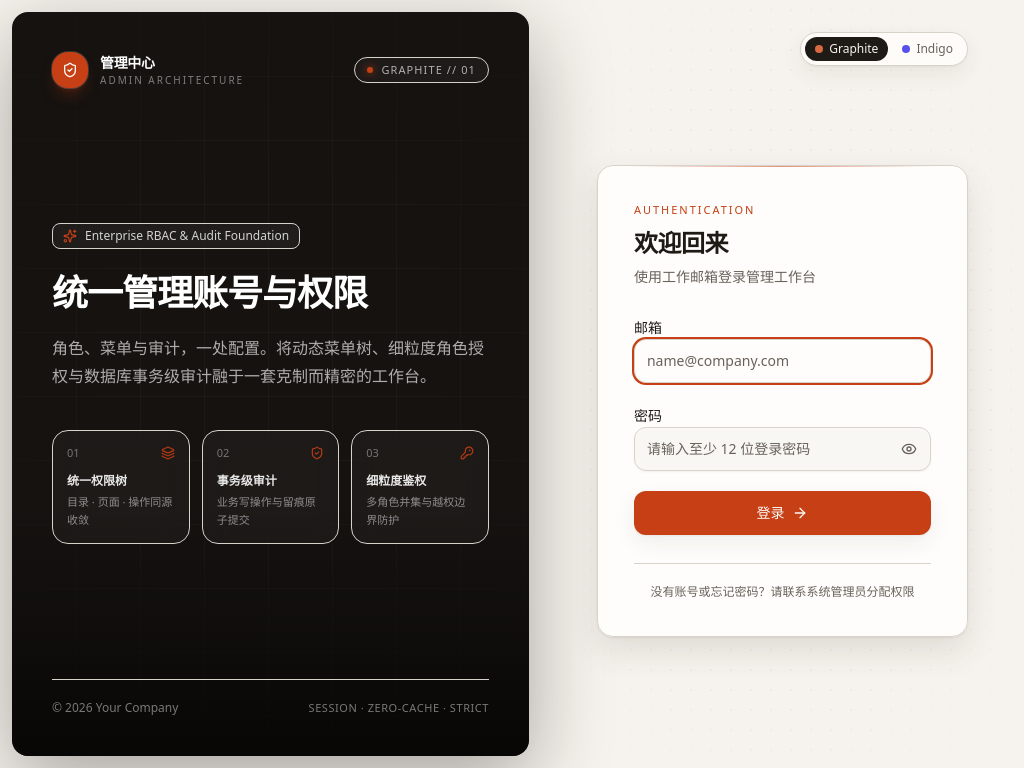
Test: login page › distinguishes rate limiting and banned accounts
Type "admin@example.com" into the field labelled "邮箱" at coordinates (782, 361), box [634, 339, 931, 383]
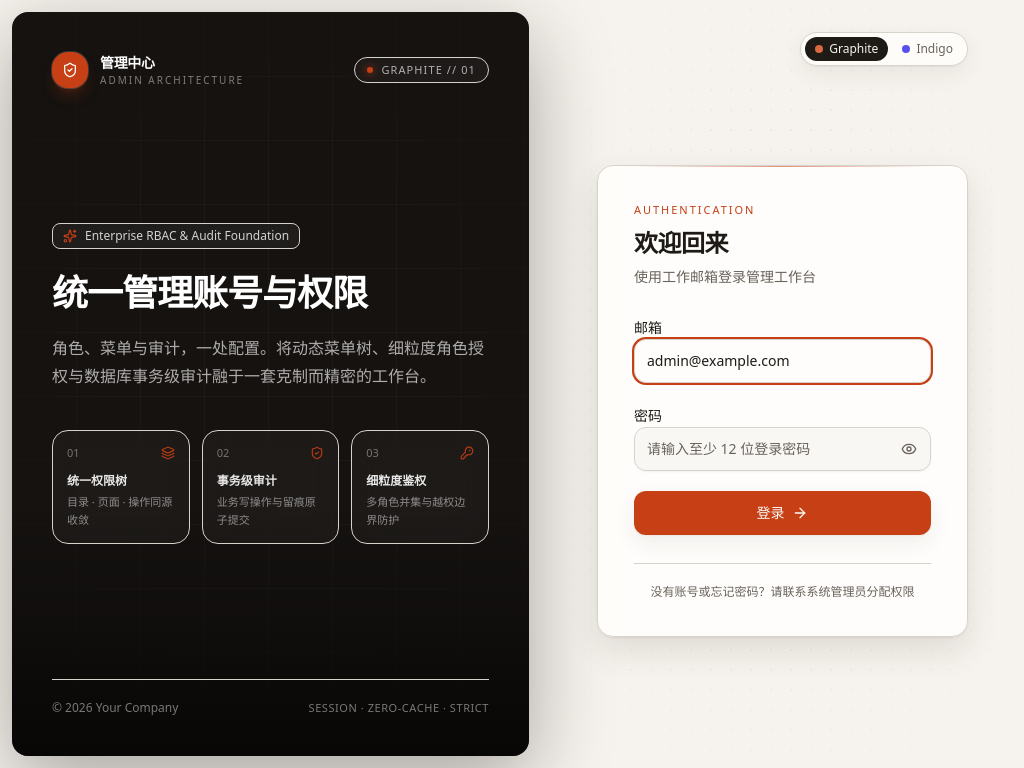
Type "admin-template-2026" into the password field labelled "密码" at coordinates (782, 449), box [634, 427, 931, 471]
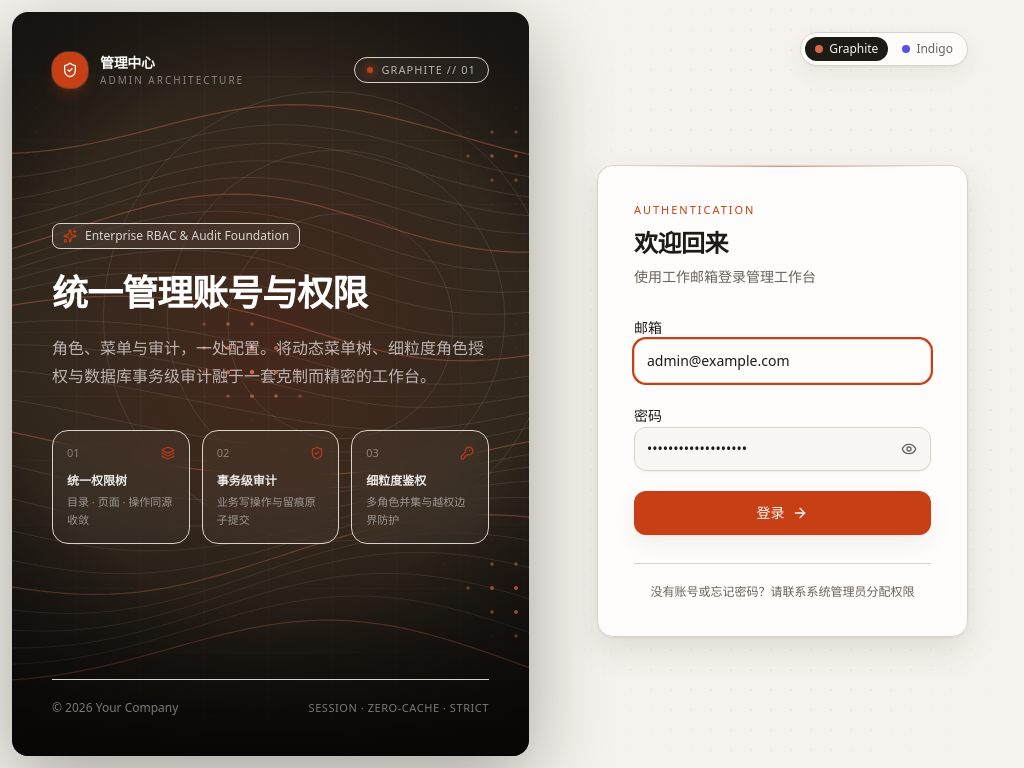
Click the button "登录" at coordinates (782, 513), box [634, 491, 931, 535]
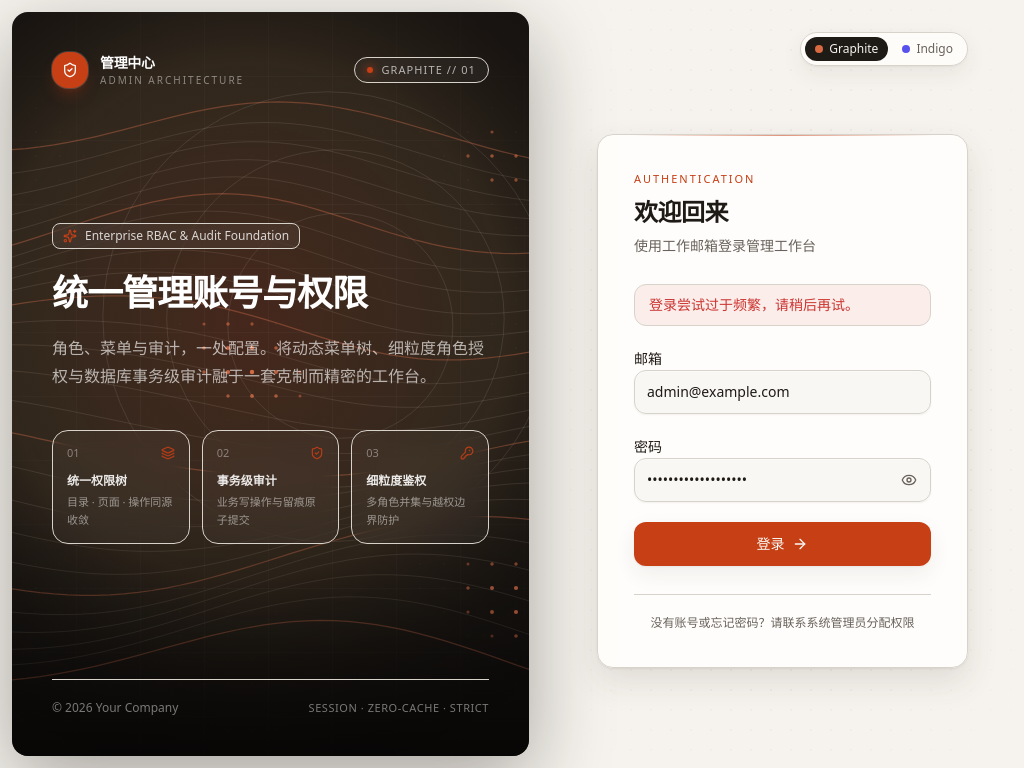
Expected: the message shows "登录尝试过于频繁", [649, 295, 859, 314]
